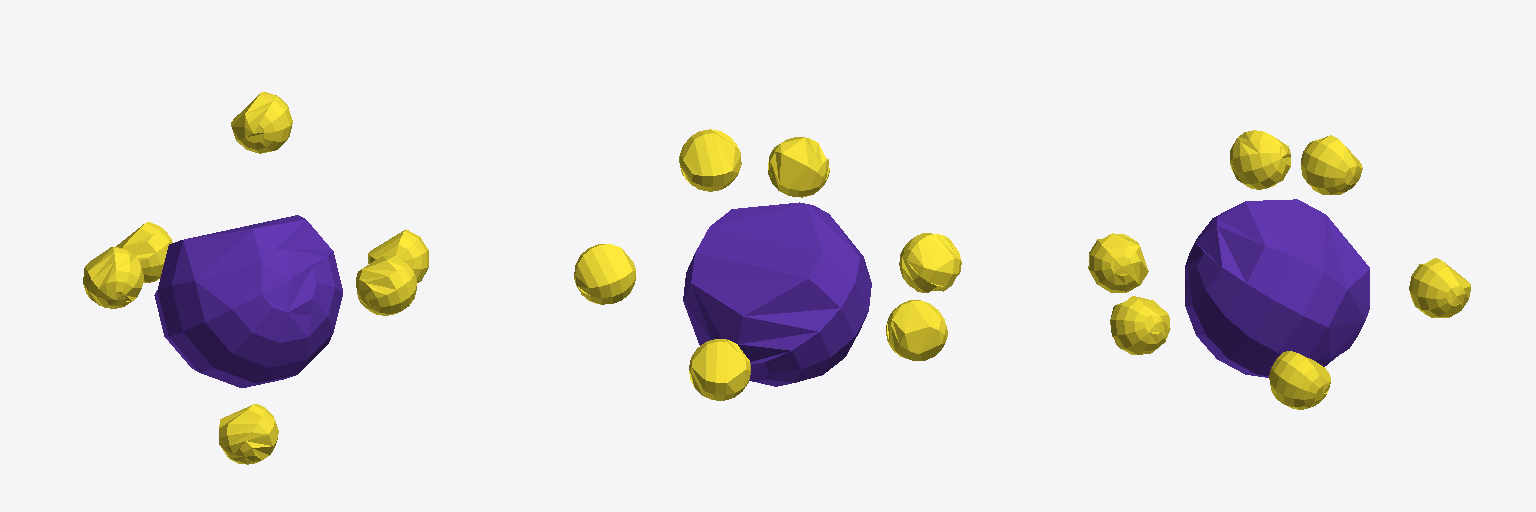
Rendered from oxygen.obj.
The picture shows the model from 3 angles: view 1: azimuth 30°, elevation 25°; view 2: azimuth 150°, elevation 25°; view 3: azimuth 270°, elevation 25°; orthographic projection.
Parts seen in each view (by area): view 1: mesh[number redacted]; view 2: mesh[number redacted]; view 3: mesh[number redacted].
Part boxes in pixels (left/top/right/bottom): mesh[number redacted]: left=83, top=92, right=428, bottom=464; mesh[number redacted]: left=574, top=129, right=961, bottom=400; mesh[number redacted]: left=1088, top=130, right=1470, bottom=409.
Size of the model in its own units: 0.2639 by 0.1895 by 0.244.